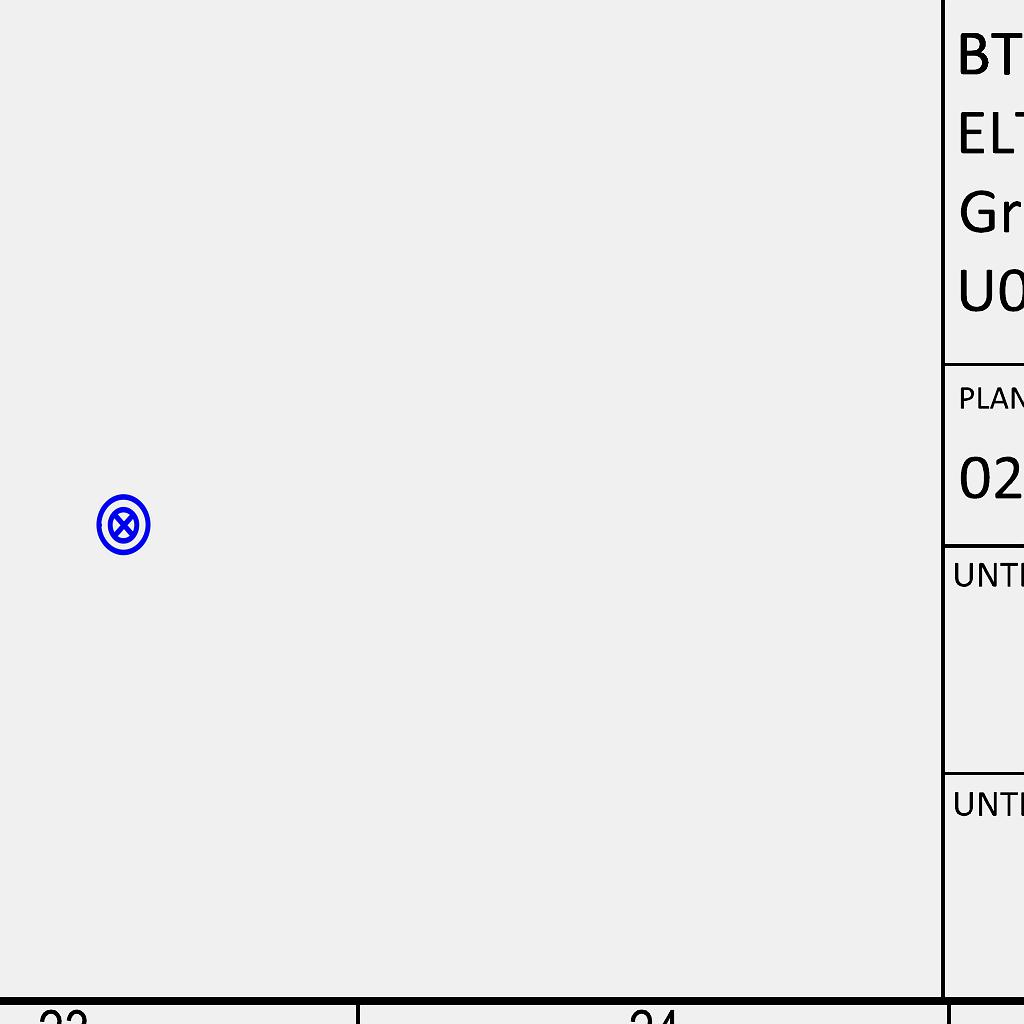Taster_beleuchtet: (91, 492, 157, 558)
